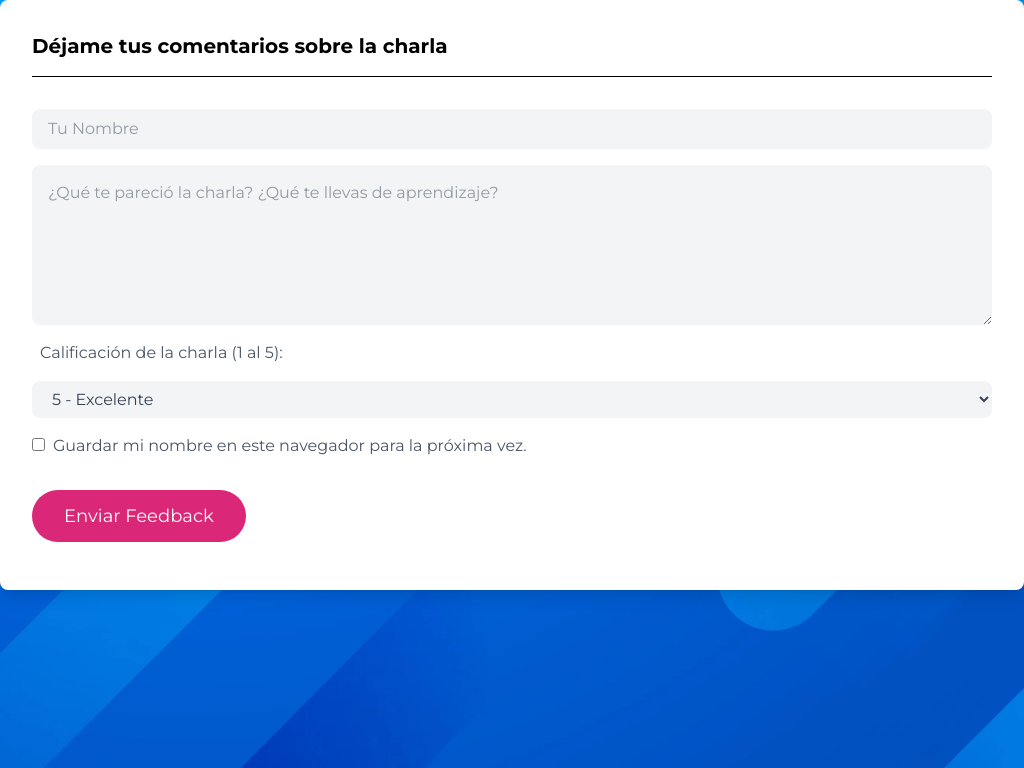
Test: ConferenceFeedbackForm › shows a server error message when the API returns an error
The image size is (1024, 768).
Type "Ada" into the field with placeholder "Tu Nombre".
click(512, 129); type("Ada")  # box left=32, top=109, right=992, bottom=149
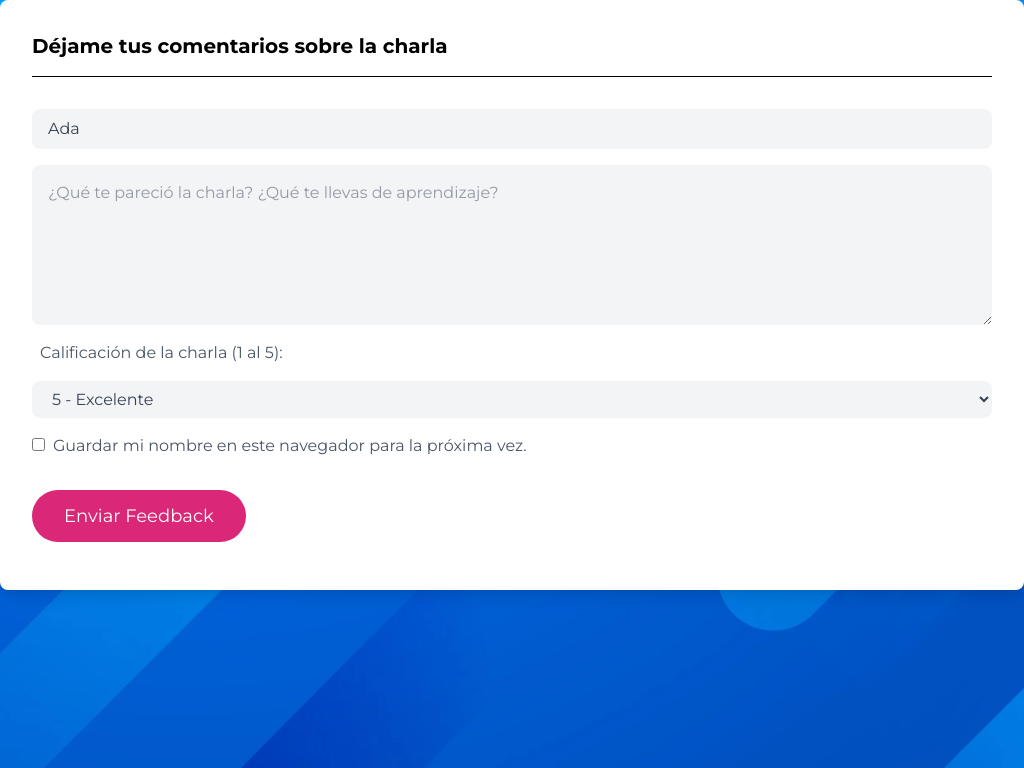
Type "Great talk!" into the text box with placeholder "¿Qué te pareció la charla? ¿Qué te llevas de aprendizaje?".
click(512, 245); type("Great talk!")  # box left=32, top=165, right=992, bottom=325
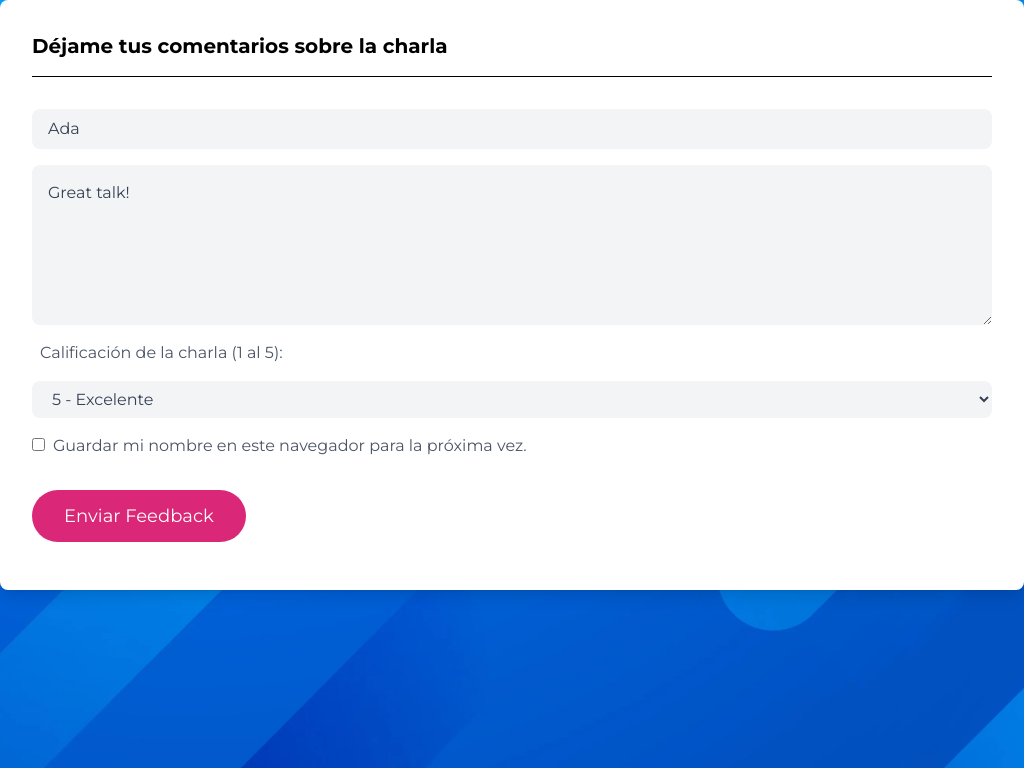
Click the button "Enviar Feedback".
click(139, 516)  # box left=32, top=490, right=246, bottom=542
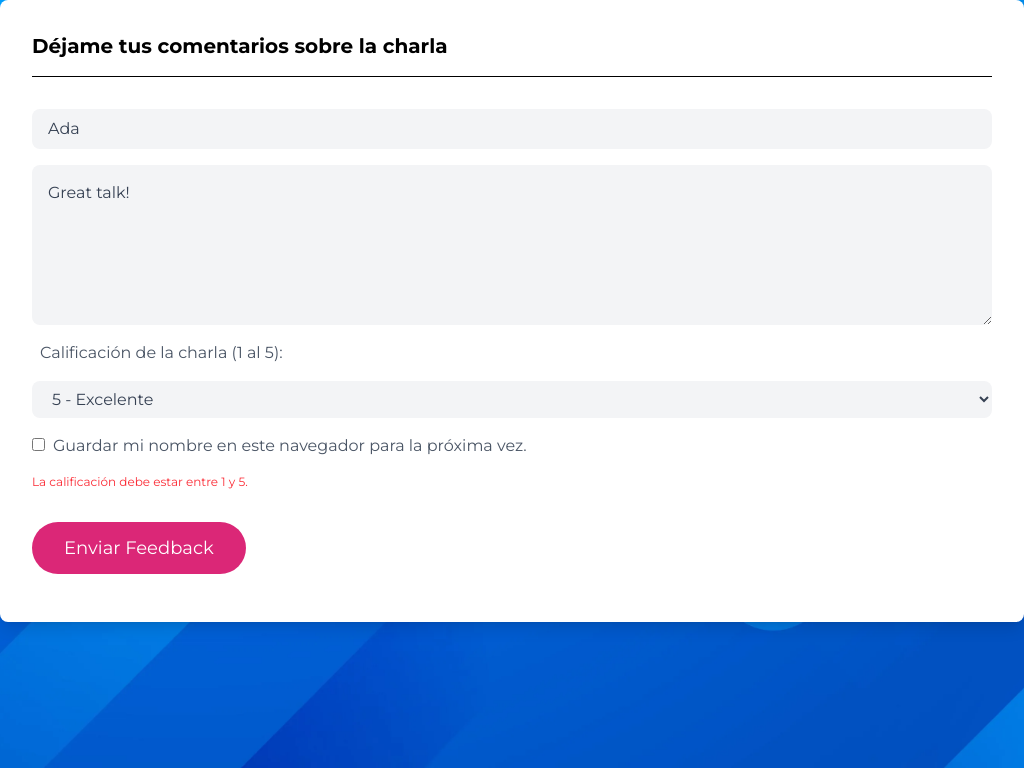
Check: the text "La calificación debe estar entre 1 y 5." is shown, box left=32, top=474, right=248, bottom=489
